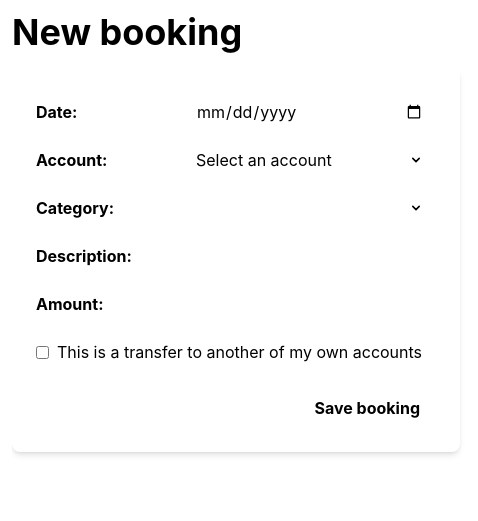
Test: NewTransactionPage › destination select is absent unchecked, present checked, absent again after unchecking
Expected: the dropdown labelled "Account:" is shown, [184, 140, 436, 180]
Expected: the field labelled "Transfer to:" is not shown
Click the checkbox labelled "This is a transfer to another of my own accounts".
click(42, 352)  # box [36, 346, 49, 358]
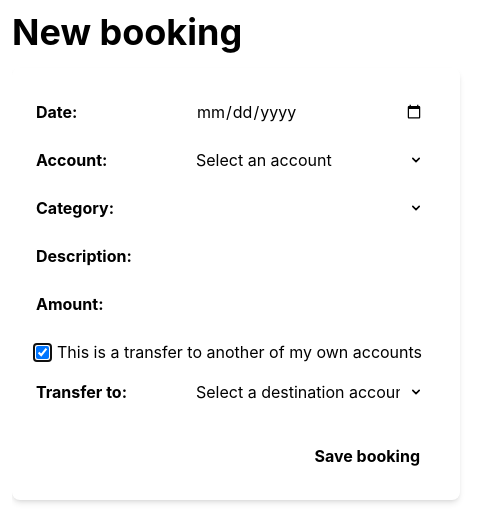
Now the dropdown labelled "Transfer to:" is shown, box [184, 372, 436, 412]
Click the checkbox labelled "This is a transfer to another of my own accounts".
click(42, 352)  # box [36, 346, 49, 358]
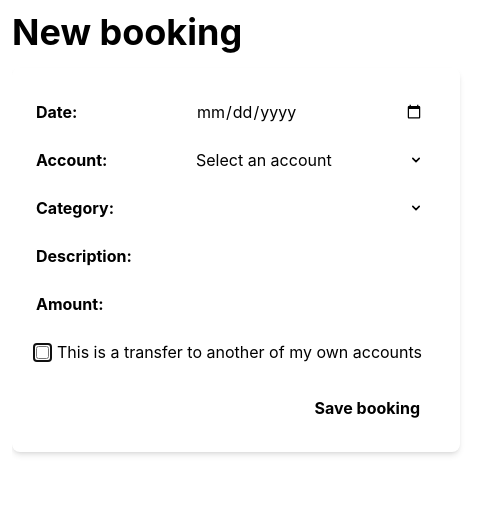
Now the label labelled "Transfer to:" is gone
